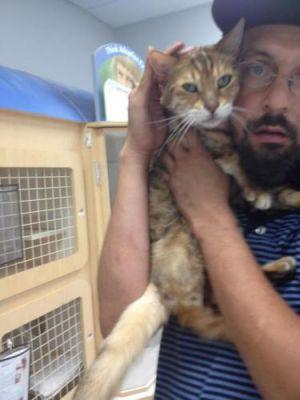bengal: (137, 21, 261, 134)
